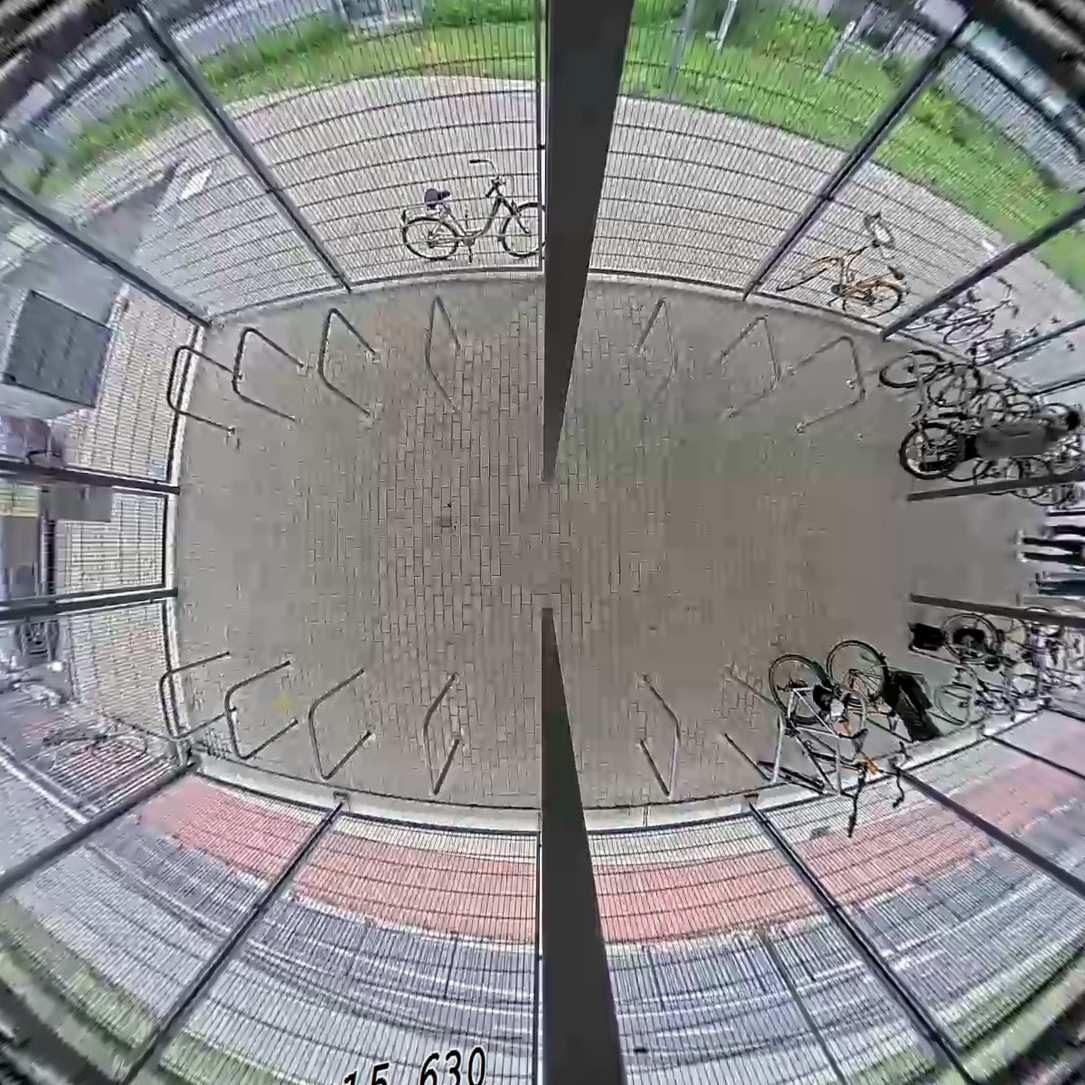bicylce: (871, 340, 987, 482), (930, 599, 1037, 732), (757, 653, 846, 801), (816, 635, 903, 780), (922, 347, 1013, 483), (963, 599, 1030, 723)
saddle: (881, 707, 906, 737), (850, 725, 872, 755), (1044, 637, 1062, 665), (973, 402, 993, 425), (1026, 645, 1041, 671), (1070, 634, 1085, 657)
